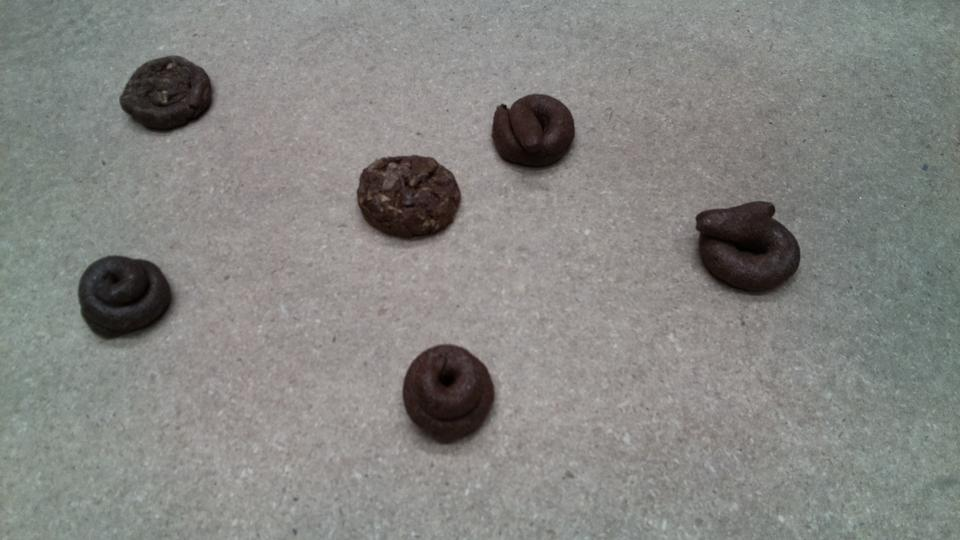poop: (691, 195, 805, 298), (399, 339, 498, 448), (352, 151, 463, 245), (76, 250, 176, 346), (117, 52, 216, 137), (489, 89, 577, 173)
